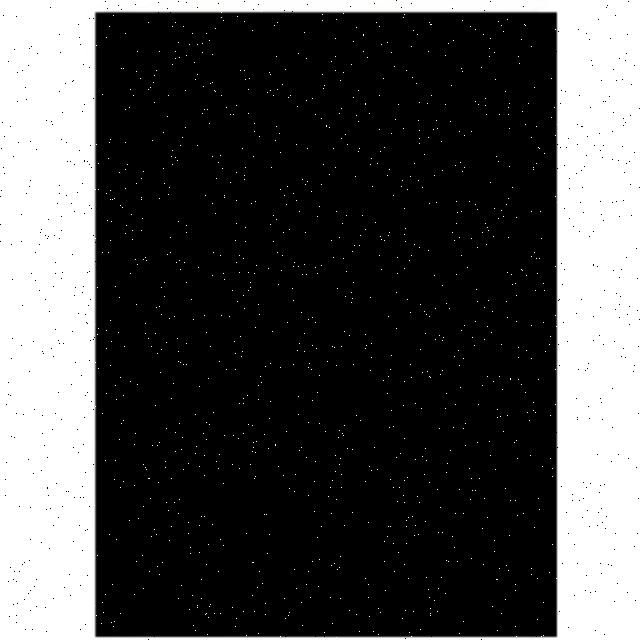Bacon: (96, 12, 558, 637)
